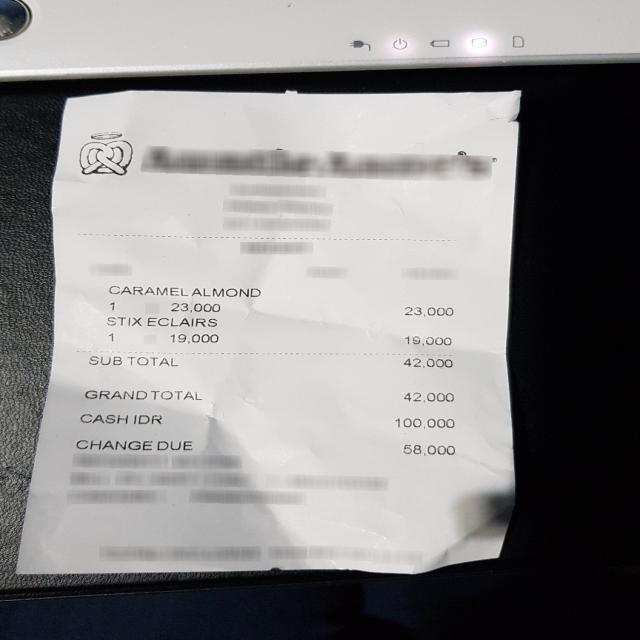kertas: (17, 91, 519, 574)
